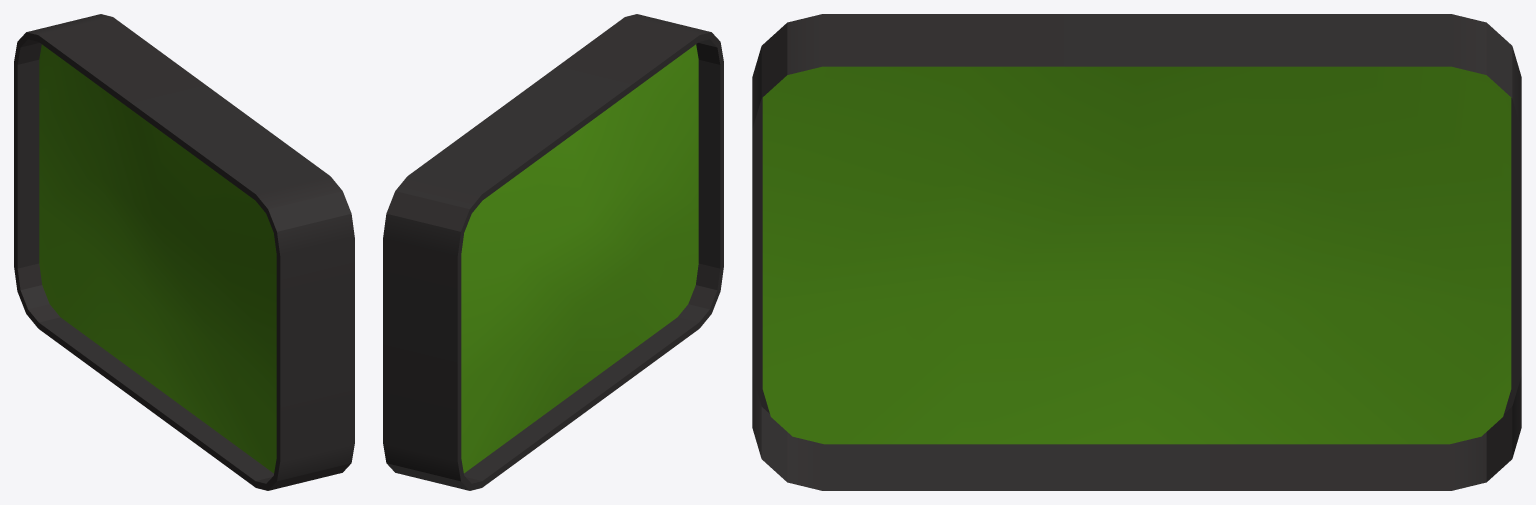
Rendered from TV_screen.fbx.
3 views of the same model, side by side, from view 1: azimuth 30°, elevation 25°; view 2: azimuth 150°, elevation 25°; view 3: azimuth 270°, elevation 25° (orthographic). The views are drawn at different scales.
Parts seen in each view (by area): view 1: TV_screen; view 2: TV_screen; view 3: TV_screen.
Boxes of the visible parts, box(x1,y1,x2,y2) form: TV_screen: box(14, 14, 354, 490); TV_screen: box(383, 14, 723, 490); TV_screen: box(752, 14, 1521, 490).
Bounding box in the file's own units: 2.41 × 9.05 × 14.87.
